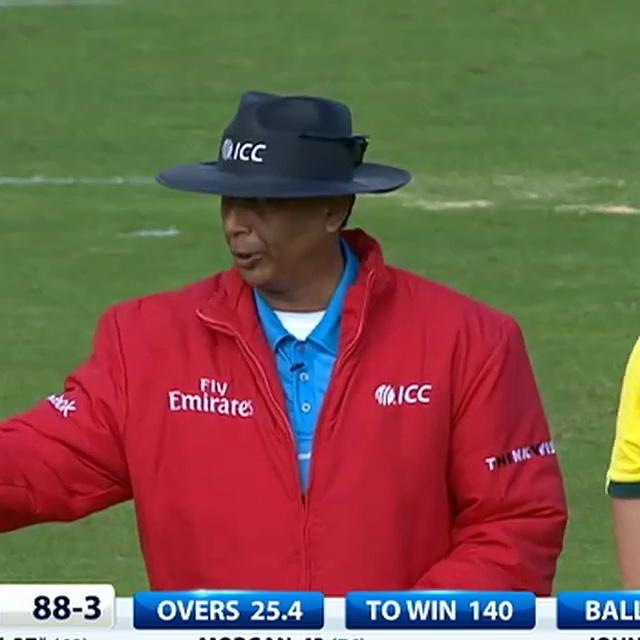umpire: (0, 56, 591, 589)
